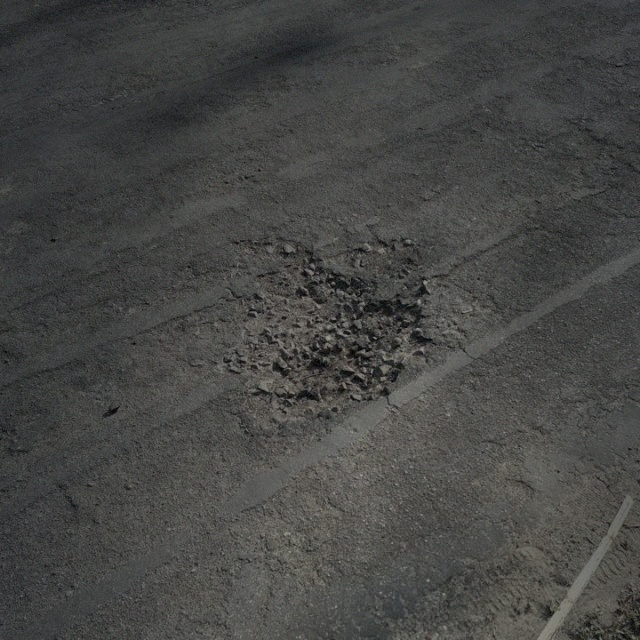pothole: (231, 238, 429, 422)
